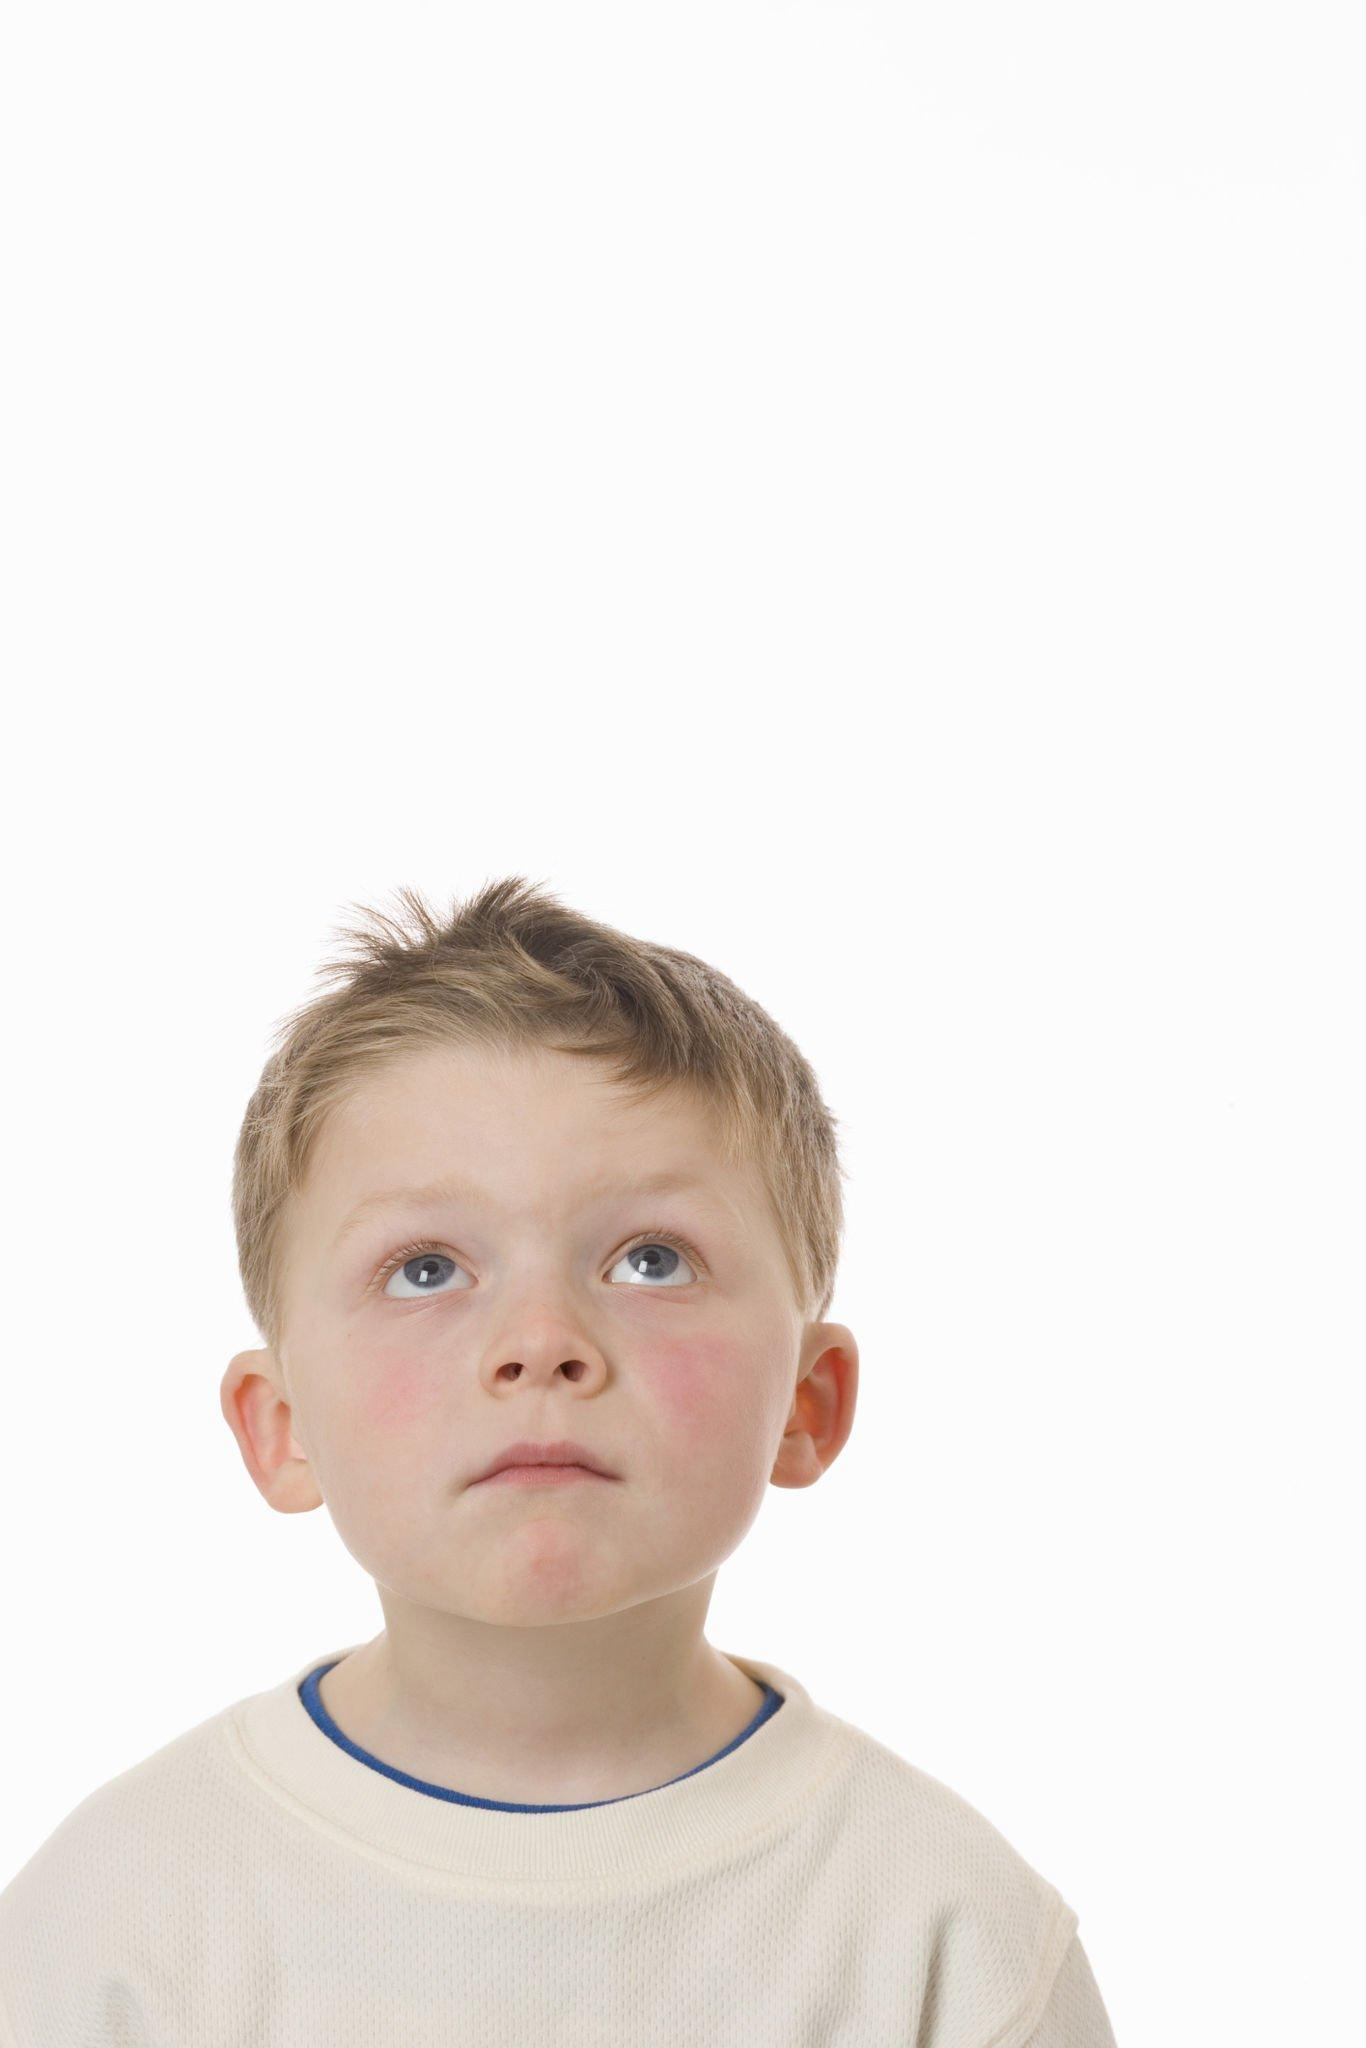Healthy: (216, 1012, 839, 1656)
